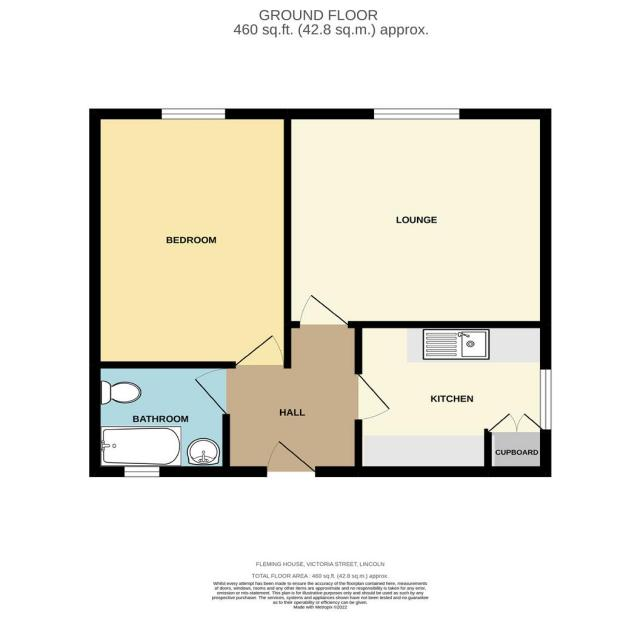DOOR: (265, 439, 317, 477), (298, 292, 350, 328), (354, 372, 392, 421), (234, 333, 285, 369), (193, 367, 230, 415)
ROOM: (283, 108, 552, 329), (89, 108, 293, 369), (354, 321, 552, 477)
WINDOW: (372, 107, 461, 120), (160, 107, 226, 121), (539, 368, 553, 432), (123, 465, 161, 478)
